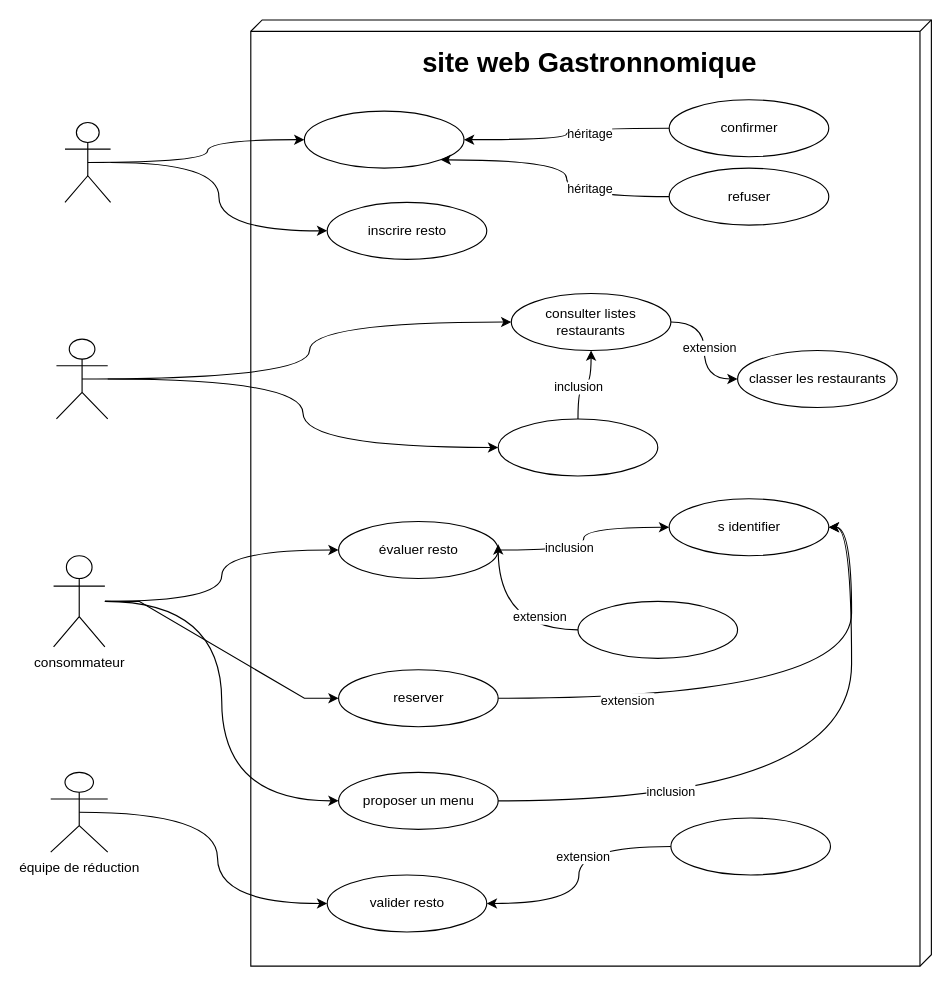
The diagram is 952 pixels wide and 986 high, and some of its shapes have lost their labels. The shapes that lost their labels are listed below. From the top down, each one's centre as x and y in pixels, then its label:
At point (383, 139): "valider la demande réservé".
At point (87, 161): "restaurateur".
At point (81, 378): "Alternante".
At point (577, 447): "consulter rang de restaurants".
At point (657, 629): "déposer commentaire".
At point (750, 846): "effectuer visite".
